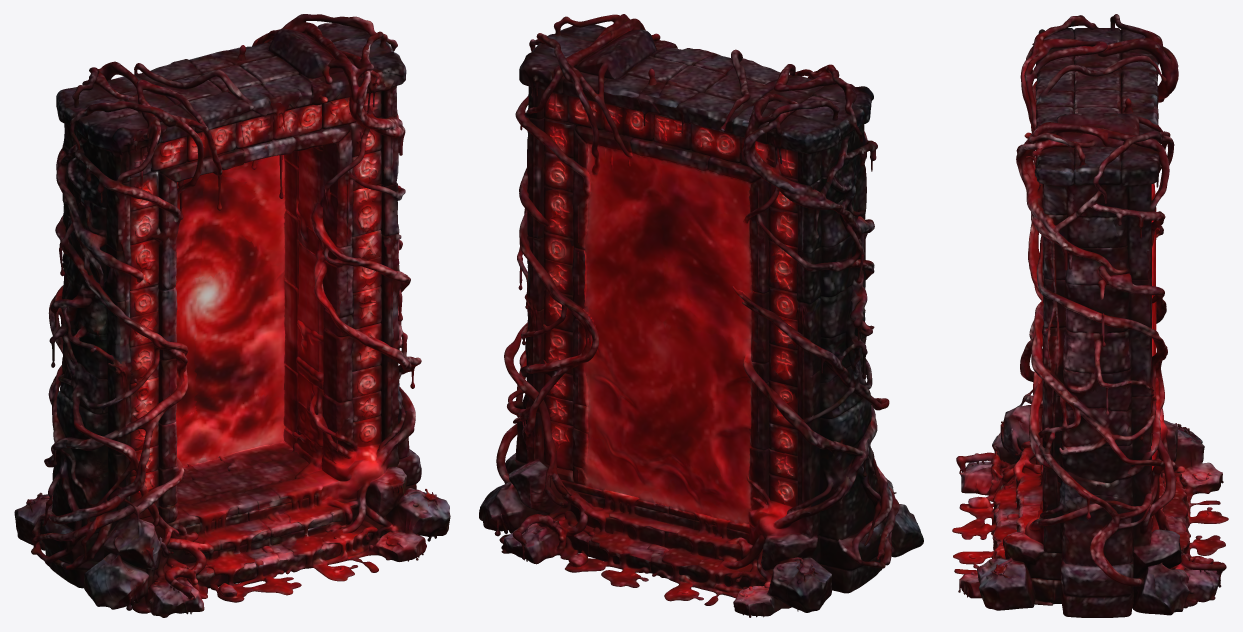
Rendered from insidiousgate.glb.
The picture shows the model from 3 angles, left to right: view 1: azimuth 30°, elevation 25°; view 2: azimuth 150°, elevation 25°; view 3: azimuth 270°, elevation 25°; orthographic projection. The views are drawn at different scales.
Parts seen in each view (by area): view 1: tripo_node_d2cc8fd7-adff-4dba-8976-1d7081cc0049; view 2: tripo_node_d2cc8fd7-adff-4dba-8976-1d7081cc0049; view 3: tripo_node_d2cc8fd7-adff-4dba-8976-1d7081cc0049.
Boxes of the visible parts, box(x1,y1,x2,y2) form: tripo_node_d2cc8fd7-adff-4dba-8976-1d7081cc0049: box(14, 14, 450, 617); tripo_node_d2cc8fd7-adff-4dba-8976-1d7081cc0049: box(479, 14, 923, 617); tripo_node_d2cc8fd7-adff-4dba-8976-1d7081cc0049: box(952, 14, 1228, 617).
Size of the model in its own units: 0.8096 by 0.9817 by 0.531.
1 material, 1 textured.
